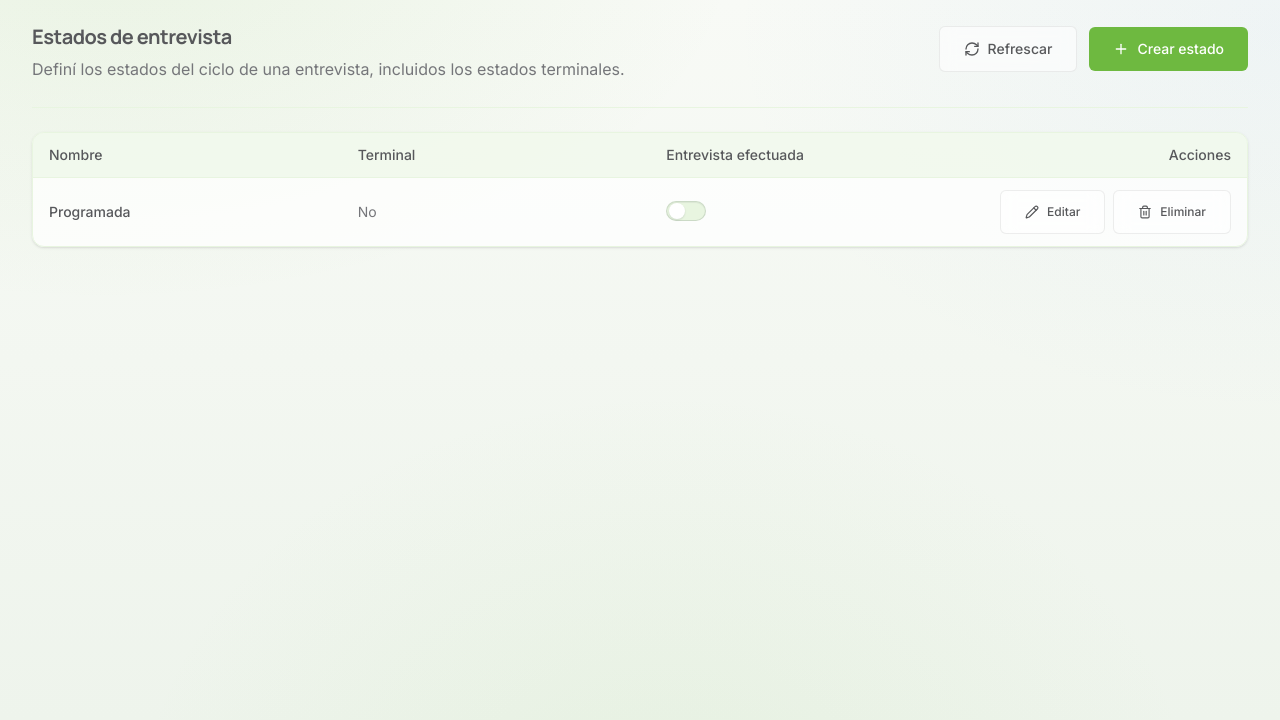
Scenario: AdminInterviewCatalogContent › renders statuses without an order column and opens create in a modal
Expected: the header "Estados de entrevista" is shown, left=32, top=24, right=1248, bottom=108
Expected: the button "Refrescar" is shown, left=939, top=26, right=1078, bottom=72
Step 1. Click the button "Crear estado" → (1169, 49), box left=1090, top=27, right=1248, bottom=71
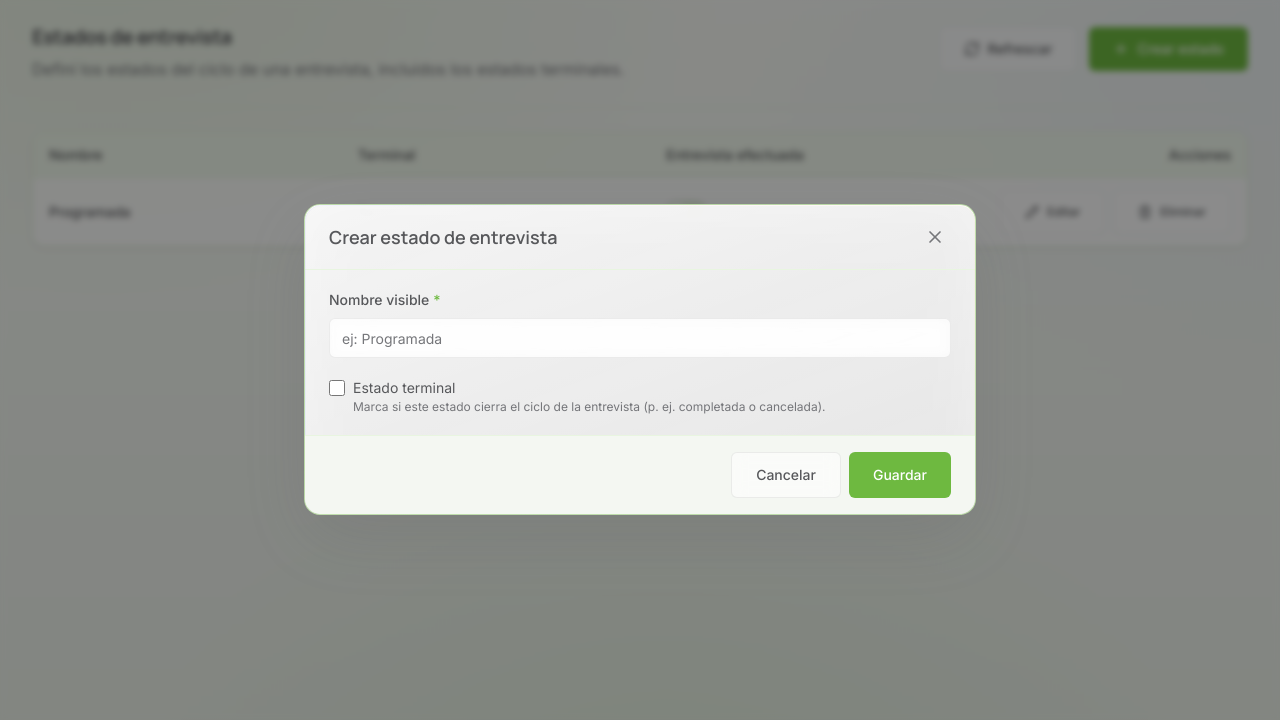
Result: the heading "Crear estado de entrevista" is shown at left=329, top=223, right=558, bottom=251
Result: the field labelled "Nombre visible*" is shown at left=329, top=318, right=951, bottom=358
